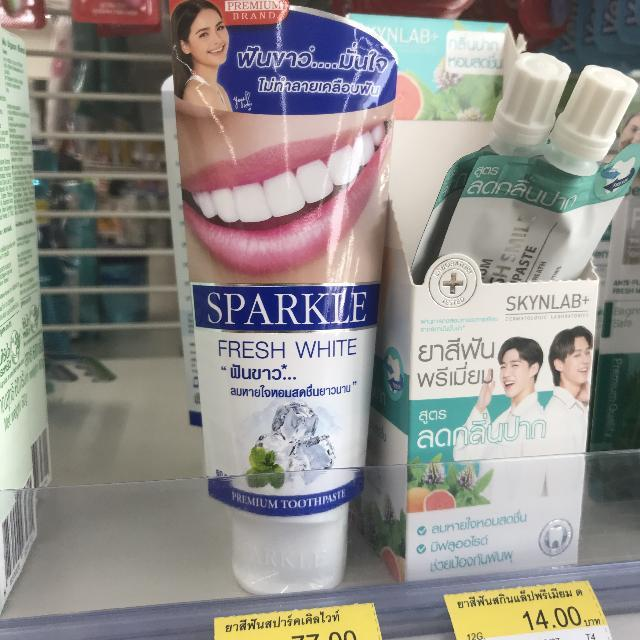Squeeze Tube: (166, 4, 403, 588), (407, 60, 639, 283)
